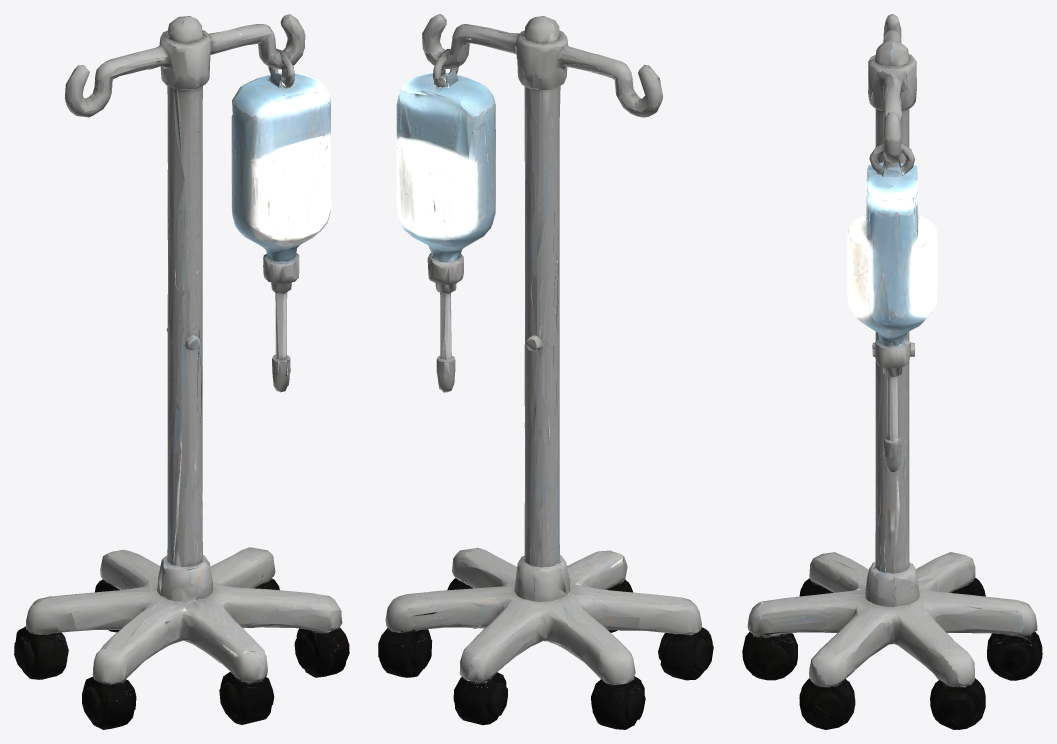
File: iv-stand.glb
The picture shows the model from 3 angles, left to right: view 1: azimuth 30°, elevation 25°; view 2: azimuth 150°, elevation 25°; view 3: azimuth 270°, elevation 25°; orthographic projection. The views are drawn at different scales.
Visible parts, largest first — view 1: Mesh_0; view 2: Mesh_0; view 3: Mesh_0.
Part boxes in pixels (left/top/right/bottom): Mesh_0: left=14, top=14, right=349, bottom=729; Mesh_0: left=378, top=14, right=713, bottom=729; Mesh_0: left=742, top=14, right=1042, bottom=729.
Size of the model in its own units: 0.8195 by 1.9 by 0.8128.
1 material, 1 textured.
